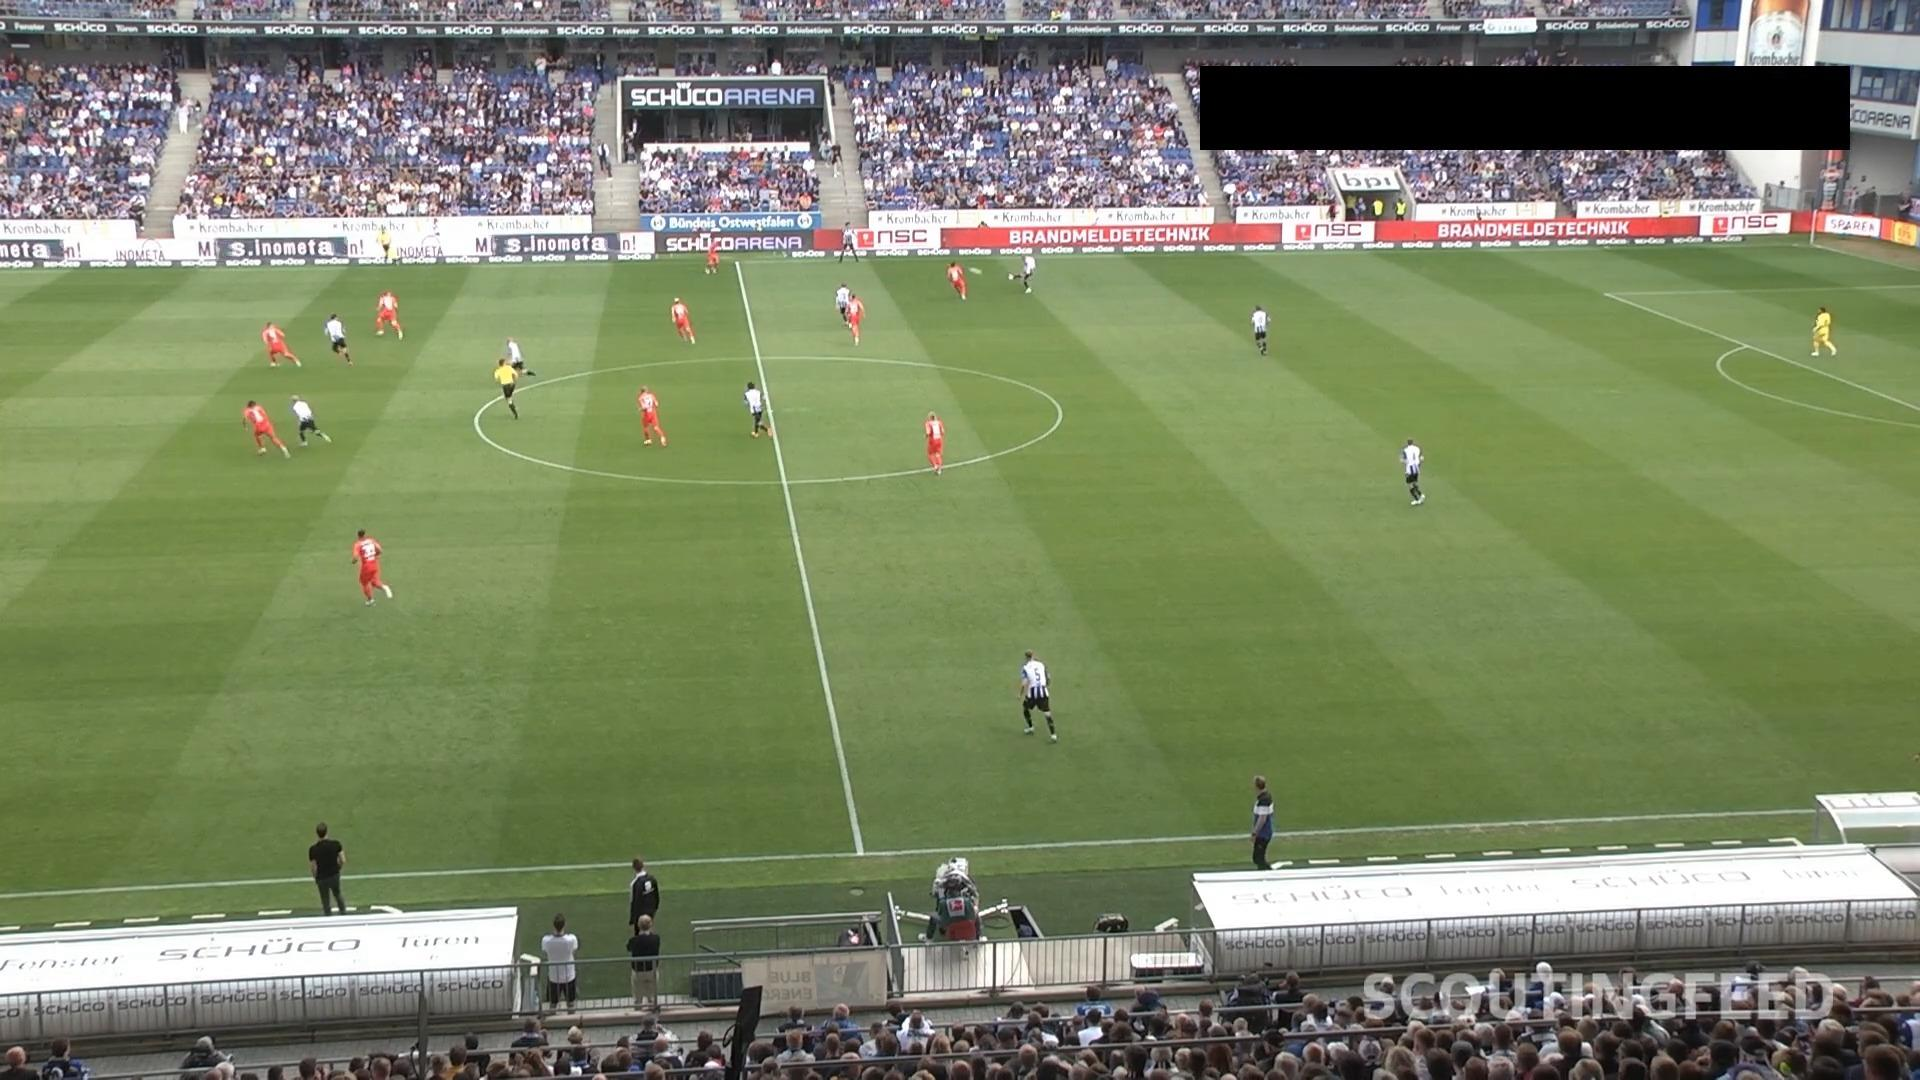ball: (967, 265, 984, 278)
